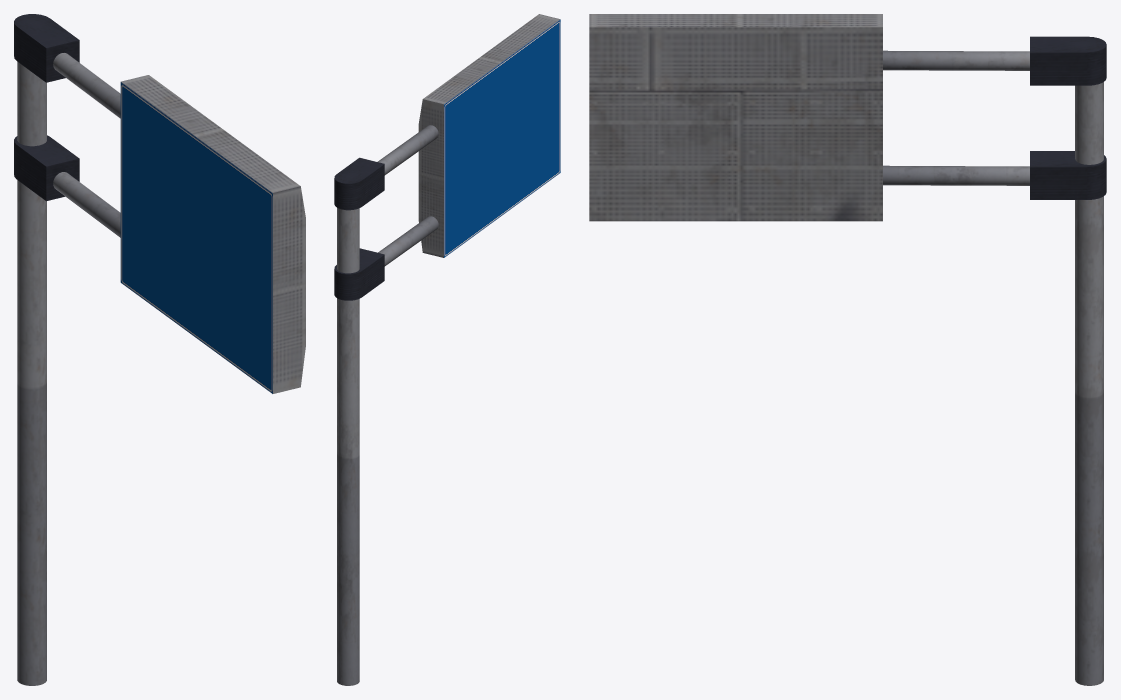
Rendered from Preset_Sign108n2A.fbx.
3 views of the same model, side by side, from view 1: azimuth 30°, elevation 25°; view 2: azimuth 150°, elevation 25°; view 3: azimuth 270°, elevation 25° (orthographic). The views are drawn at different scales.
Parts seen in each view (by area): view 1: Sign108n2A, PoleVD, SignBackface, PoleBLK, PoleHD; view 2: Sign108n2A, PoleVD, SignBackface, PoleBLK, PoleHD; view 3: SignBackface, PoleVD, PoleBLK, PoleHD.
Part boxes in pixels (box(x1,y1,x2,y2)): Sign108n2A: box(120, 82, 272, 393); PoleVD: box(17, 62, 46, 685); SignBackface: box(121, 75, 305, 393); PoleBLK: box(14, 14, 79, 201); PoleHD: box(53, 53, 120, 237); Sign108n2A: box(444, 19, 560, 257); PoleVD: box(337, 208, 359, 685); SignBackface: box(418, 14, 559, 257); PoleBLK: box(334, 157, 384, 300); PoleHD: box(377, 125, 438, 266); SignBackface: box(589, 14, 882, 221); PoleVD: box(1075, 82, 1103, 685); PoleBLK: box(1030, 36, 1106, 199); PoleHD: box(883, 50, 1029, 185).
Size of the model in its own units: 46.61 by 617 by 865.
Materials: 5 (5 with a texture image).
